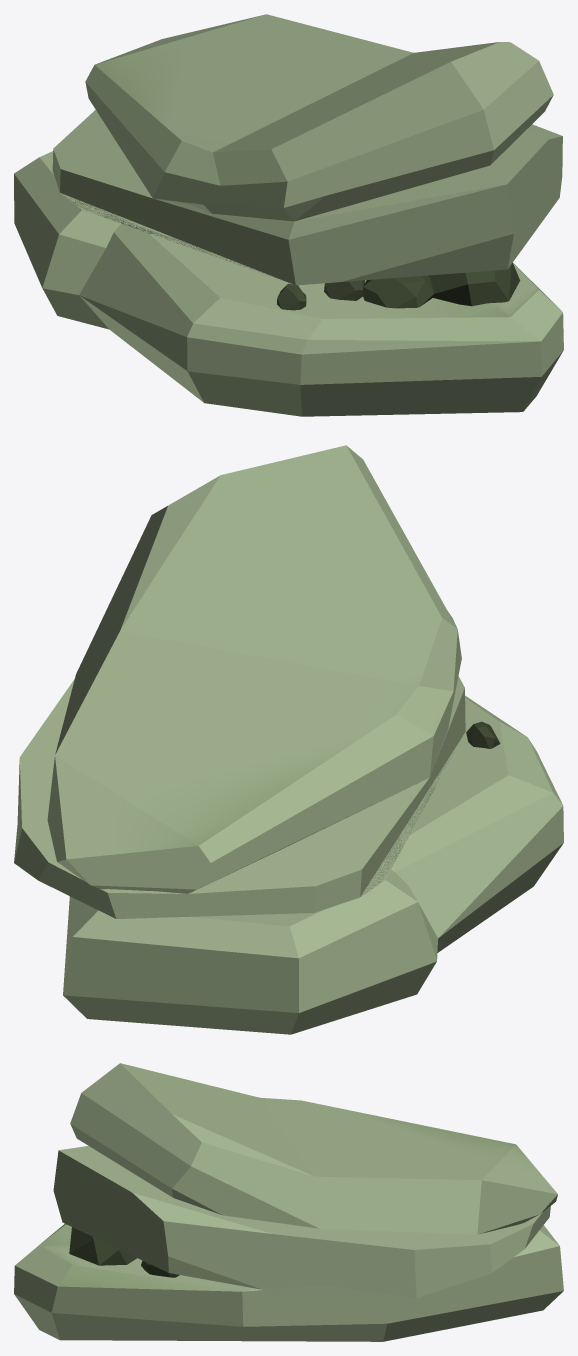
The model's file is EA_Swamp_RockBig_02a.glb.
3 renders of one model, top to bottom at view 1: azimuth 30°, elevation 25°; view 2: azimuth 150°, elevation 25°; view 3: azimuth 270°, elevation 25°, orthographic. The views are drawn at different scales.
Visible parts, largest first — view 1: EA_Swamp_RockBig_02a; view 2: EA_Swamp_RockBig_02a; view 3: EA_Swamp_RockBig_02a.
Part boxes in pixels (<box>): EA_Swamp_RockBig_02a: <box>14,14,563,416</box>; EA_Swamp_RockBig_02a: <box>14,445,563,1034</box>; EA_Swamp_RockBig_02a: <box>14,1063,563,1341</box>.
Bounding box in the file's own units: 4.23 × 3.34 × 6.43.
Materials: 1 (1 with a texture image).
